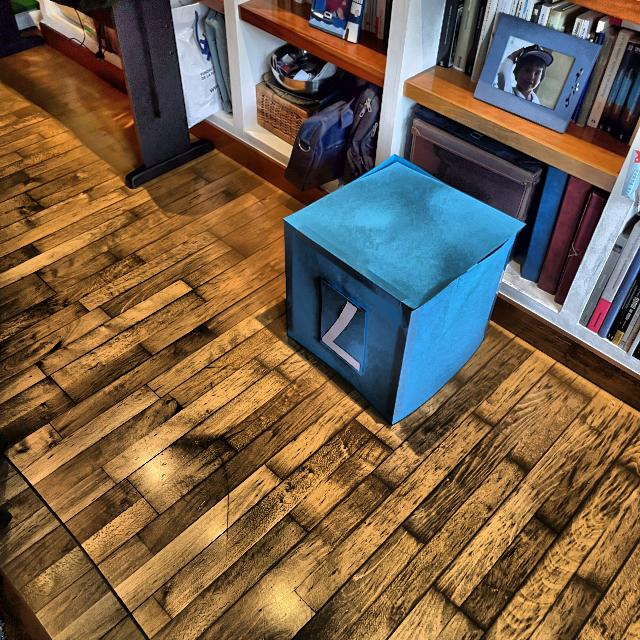blue box: (278, 149, 524, 429)
seven: (316, 290, 372, 380)
